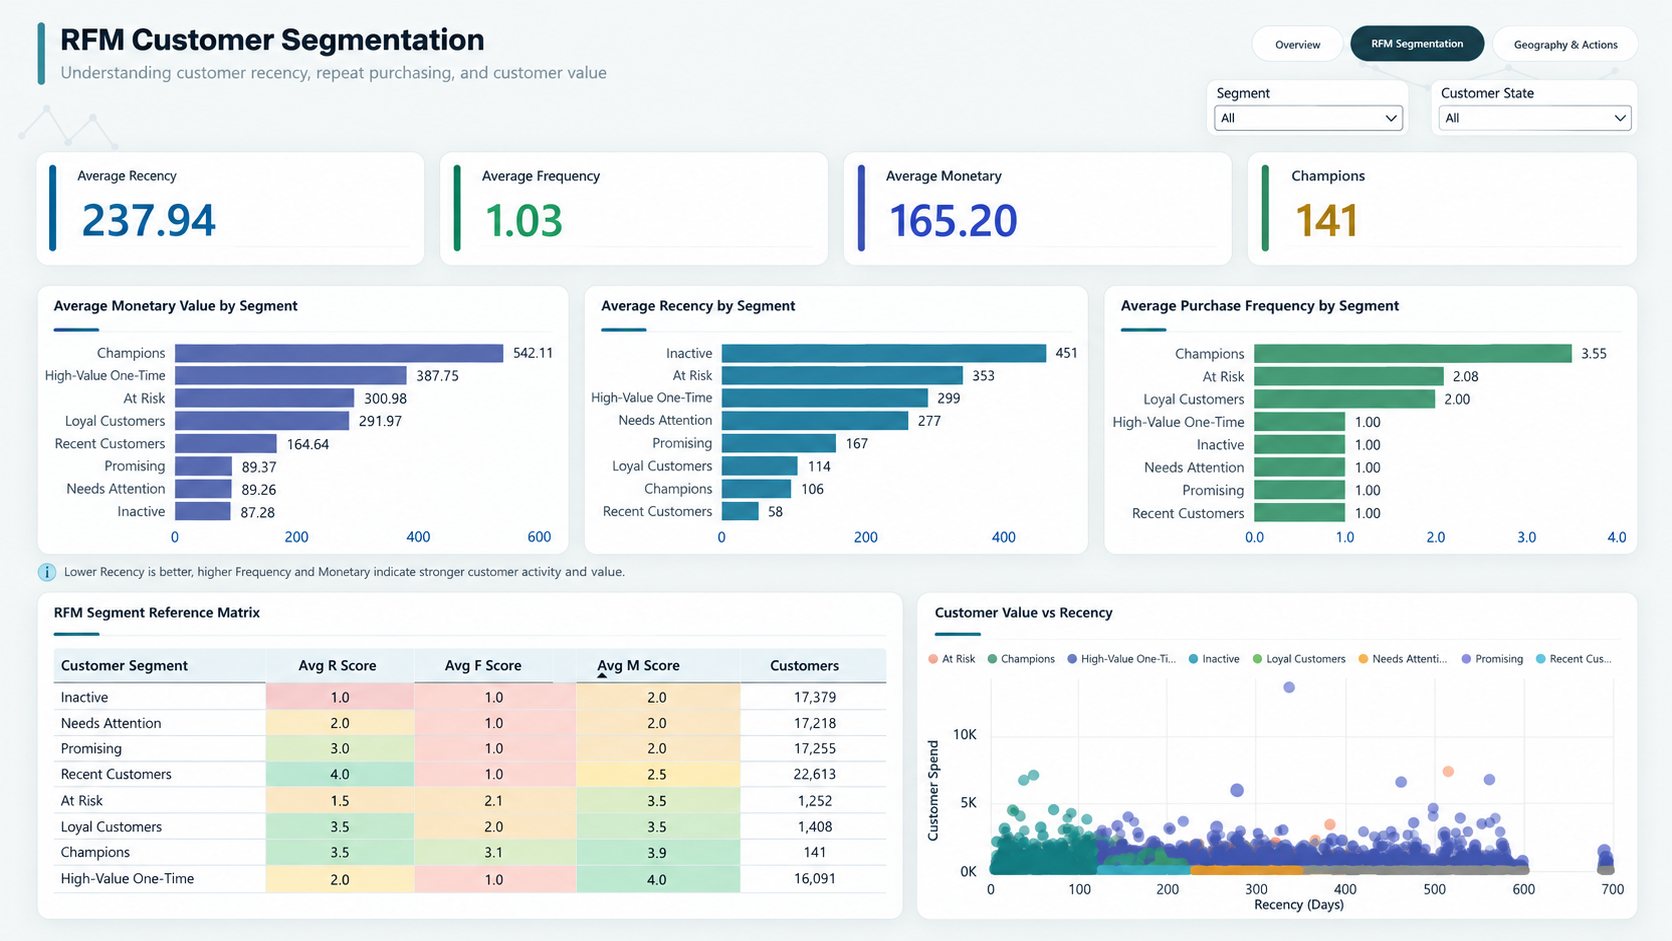

What the dashboard file says about the page in this screenshot:
{"tool":"powerbi","page":{"name":"Page 2","canvas":[1920,1080],"ordinal":1},"visuals":[{"type":"shape","box":[1452,109,194,54],"z":0},{"type":"slicer","fields":{"Values":["olist_customer_segmentation_final.Segment"]},"box":[1454,127,192,36],"z":1000},{"type":"textbox","box":[1461,109,88,18],"z":2000},{"type":"shape","box":[1665,109,206,54],"z":3000},{"type":"slicer","fields":{"Values":["olist_customer_segmentation_final.customer_state"]},"box":[1670,128,200,32],"z":4000},{"type":"textbox","box":[1677,113,107,18],"z":5000},{"type":"cardVisual","fields":{"Data":["Avg(olist_customer_segmentation_final.Recency)"]},"box":[77.7,217.7,157.7,61.5],"z":6000},{"type":"cardVisual","fields":{"Data":["olist_customer_segmentation_final.Average Monetary"]},"box":[1006.4,217.7,157.7,61.5],"z":7000},{"type":"cardVisual","fields":{"Data":["olist_customer_segmentation_final.Average Frequency"]},"box":[542.1,217.7,157.7,61.5],"z":8000},{"type":"cardVisual","fields":{"Data":["olist_customer_segmentation_final.Champions"]},"box":[1470.8,217.7,157.7,61.5],"z":9000},{"type":"clusteredBarChart","fields":{"Category":["olist_customer_segmentation_final.Segment"],"Y":["olist_customer_segmentation_final.Average Monetary"]},"box":[26.7,372.2,631.1,235.6],"z":10000},{"type":"clusteredBarChart","fields":{"Category":["olist_customer_segmentation_final.Segment"],"Y":["olist_customer_segmentation_final.Average Recency"]},"box":[644.4,372.2,648.9,235.6],"z":11000},{"type":"clusteredBarChart","fields":{"Category":["olist_customer_segmentation_final.Segment"],"Y":["olist_customer_segmentation_final.Average Frequency"]},"box":[1258.6,372.9,612.9,235.7],"z":12000},{"type":"scatterChart","fields":{"Category":["olist_customer_segmentation_final.customer_unique_id"],"Series":["olist_customer_segmentation_final.Segment"],"X":["Sum(olist_customer_segmentation_final.Recency)"],"Y":["Sum(olist_customer_segmentation_final.Monetary)"]},"box":[1095,681.7,776.7,358.3],"z":13000},{"type":"tableEx","fields":{"Values":["olist_customer_segmentation_final.Segment","Avg(olist_customer_segmentation_final.R_Score)","Avg(olist_customer_segmentation_final.F_Score)","Avg(olist_customer_segmentation_final.M_Score)","olist_customer_segmentation_final.customer_unique_id"]},"box":[52,696,1034,344],"z":14000}]}

Visuals, with their boxes in screenshot pixels (x1, y1, x2, y2), scaled from the page's 1920x1080 canvas onto the 1672x941 screenshot:
shape: [left=1264, top=95, right=1433, bottom=142]
slicer - olist_customer_segmentation_final.Segment: [left=1266, top=111, right=1433, bottom=142]
textbox: [left=1272, top=95, right=1349, bottom=111]
shape: [left=1450, top=95, right=1629, bottom=142]
slicer - olist_customer_segmentation_final.customer_state: [left=1454, top=112, right=1628, bottom=139]
textbox: [left=1460, top=98, right=1554, bottom=114]
cardVisual - Avg(olist_customer_segmentation_final.Recency): [left=68, top=190, right=205, bottom=243]
cardVisual - olist_customer_segmentation_final.Average Monetary: [left=876, top=190, right=1014, bottom=243]
cardVisual - olist_customer_segmentation_final.Average Frequency: [left=472, top=190, right=609, bottom=243]
cardVisual - olist_customer_segmentation_final.Champions: [left=1281, top=190, right=1418, bottom=243]
clusteredBarChart - olist_customer_segmentation_final.Segment x olist_customer_segmentation_final.Average Monetary: [left=23, top=324, right=573, bottom=530]
clusteredBarChart - olist_customer_segmentation_final.Segment x olist_customer_segmentation_final.Average Recency: [left=561, top=324, right=1126, bottom=530]
clusteredBarChart - olist_customer_segmentation_final.Segment x olist_customer_segmentation_final.Average Frequency: [left=1096, top=325, right=1630, bottom=530]
scatterChart - olist_customer_segmentation_final.customer_unique_id x olist_customer_segmentation_final.Segment: [left=954, top=594, right=1630, bottom=906]
tableEx - olist_customer_segmentation_final.Segment x Avg(olist_customer_segmentation_final.R_Score): [left=45, top=606, right=946, bottom=906]
